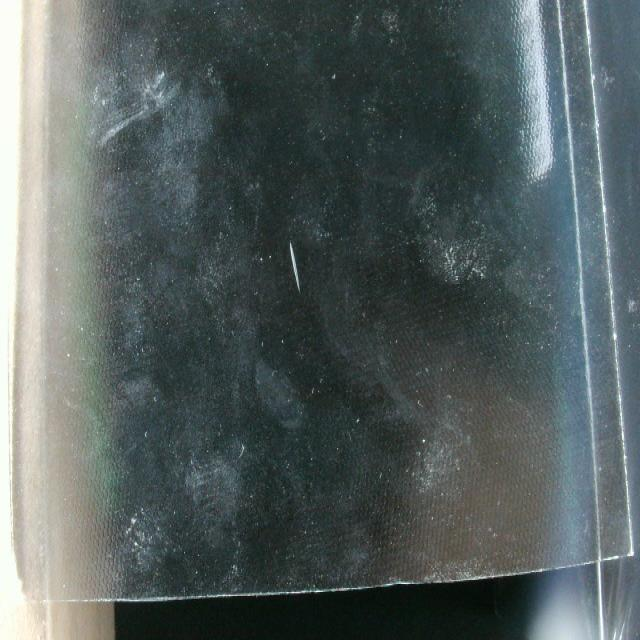edge_chip: (372, 570, 418, 598)
scratch: (282, 228, 308, 302)
